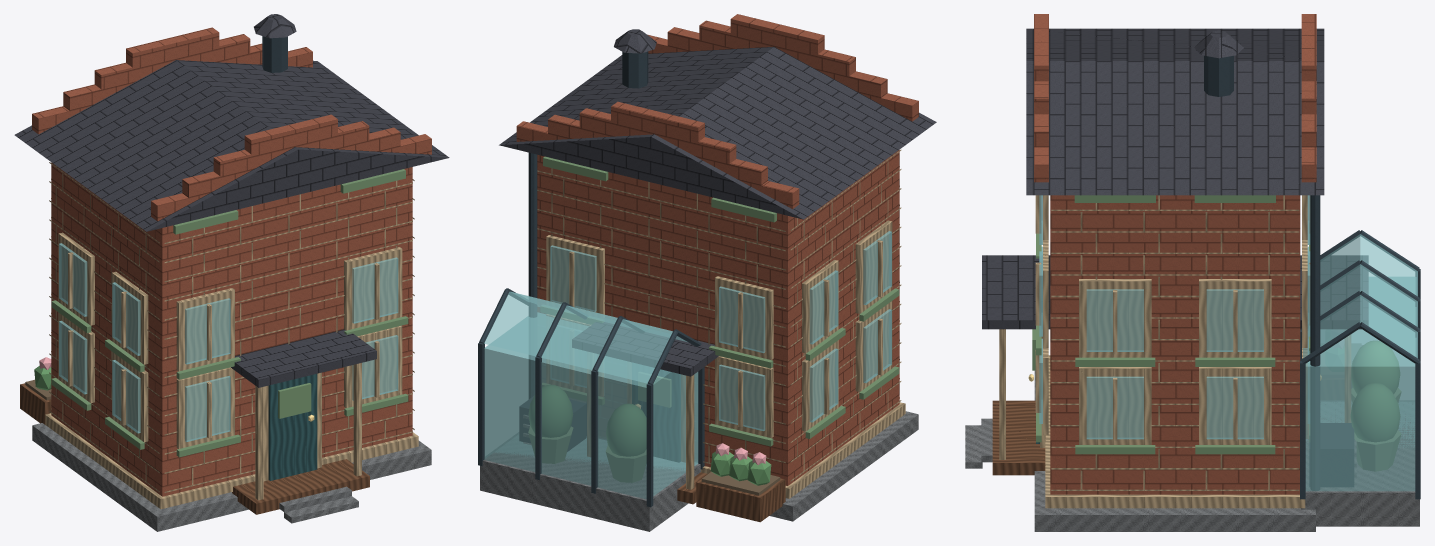
The model's file is house_townhouse_lv3_greenhouse.glb.
3 views of the same model, side by side, from view 1: azimuth 30°, elevation 25°; view 2: azimuth 150°, elevation 25°; view 3: azimuth 270°, elevation 25° (orthographic). The views are drawn at different scales.
Parts seen in each view (by area): view 1: walls, gable_roof, foundation, front_porch_canopy, front_door, floor_trim, front_window_frame.003, front_window_frame.002, front_window_frame, front_deck, front_window_frame.001, front_window_glass.003 (+34 smaller); view 2: walls, gable_roof, greenhouse_glazing, greenhouse_plinth, greenhouse_roof, back_porch_canopy, back_window_frame.002, back_window_frame, foundation, back_window_frame.003, back_garden_bed, back_window_glass.003 (+42 smaller); view 3: walls, gable_roof, greenhouse_glazing, greenhouse_roof, foundation, greenhouse_plinth, right_window_frame.002, right_window_frame.003, right_window_frame, right_window_frame.001, floor_trim, front_porch_canopy (+34 smaller).
Part boxes in pixels (x1,y1,x2,y2): walls: (51,162,412,496); gable_roof: (14,60,449,231); foundation: (32,423,431,531); front_porch_canopy: (231,329,376,387); front_door: (268,374,317,480); floor_trim: (45,413,418,509); front_window_frame.003: (344,247,402,330); front_window_frame.002: (176,288,234,371); front_window_frame: (176,367,234,448); front_deck: (232,459,369,514); front_window_frame.001: (344,325,402,407); front_window_glass.003: (352,257,398,323); walls: (537,150,899,485); gable_roof: (499,46,936,219); greenhouse_glazing: (484,312,698,498); greenhouse_plinth: (480,452,700,531); greenhouse_roof: (484,291,686,383); back_porch_canopy: (572,322,718,376); back_window_frame.002: (715,276,773,359); back_window_frame: (715,356,773,438); foundation: (769,411,918,521); back_window_frame.003: (546,235,604,314); back_garden_bed: (696,472,785,522); back_window_glass.003: (550,245,596,311); walls: (1050,195,1300,494); gable_roof: (1026,28,1324,195); greenhouse_glazing: (1305,277,1415,491); greenhouse_roof: (1303,234,1417,357); foundation: (1034,370,1315,531); greenhouse_plinth: (1301,401,1419,526); right_window_frame.002: (1079,279,1151,357); right_window_frame.003: (1199,279,1271,357); right_window_frame: (1079,367,1151,444); right_window_frame.001: (1199,367,1271,444); floor_trim: (1045,355,1305,508); front_porch_canopy: (982,255,1050,329).
Bounding box in the file's own units: 3.15 × 4.03 × 3.64.
Materials: 13 (7 with a texture image).
